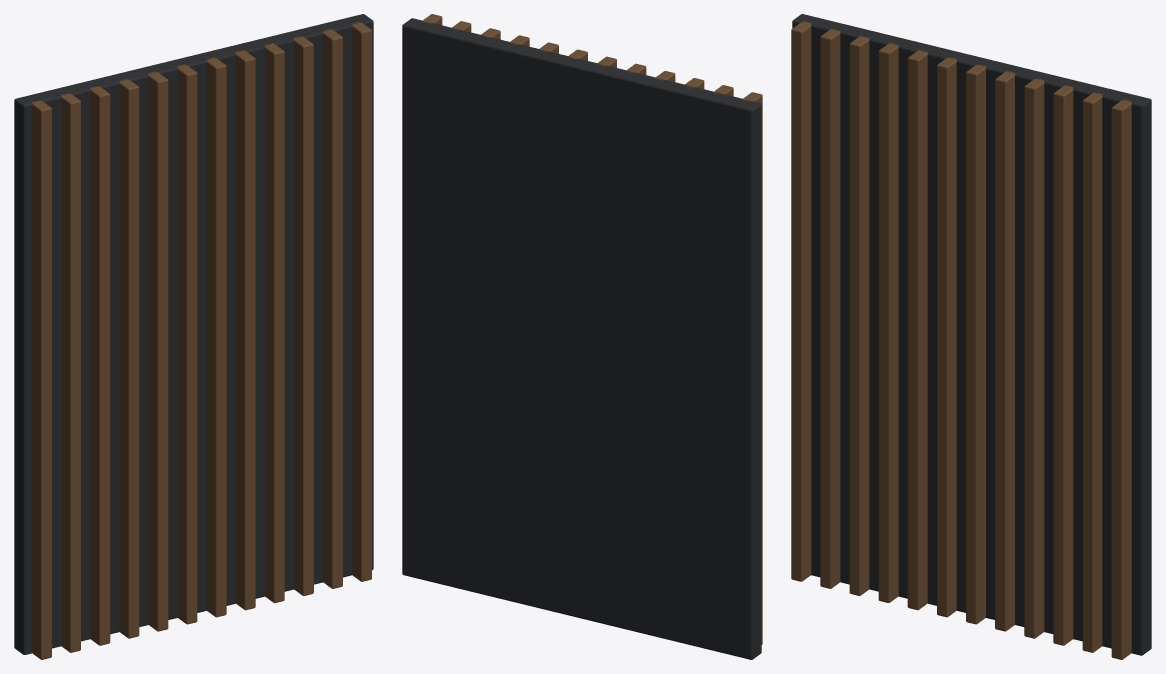
File: WoodSlatPanel.fbx
The picture shows the model from 3 angles, left to right: view 1: azimuth 30°, elevation 25°; view 2: azimuth 150°, elevation 25°; view 3: azimuth 330°, elevation 25°; orthographic projection.
Parts seen in each view (by area): view 1: Backing, Slat_07, Slat_04, Slat_05, Slat_06, Slat_03, Slat_02, Slat_08, Slat_09, Slat_11, Slat_01, Slat_10 (+1 smaller); view 2: Backing, Slat_00; view 3: Backing, Slat_00, Slat_09, Slat_03, Slat_11, Slat_04, Slat_08, Slat_10, Slat_02, Slat_01, Slat_07, Slat_05 (+1 smaller).
Boxes of the visible parts, x1,y1,x2,y2 form: Backing: (14,14,373,654); Slat_07: (235,50,255,610); Slat_04: (148,71,168,631); Slat_05: (177,64,197,624); Slat_06: (206,57,226,617); Slat_03: (119,78,139,638); Slat_02: (90,86,110,645); Slat_08: (264,43,284,603); Slat_09: (293,36,313,595); Slat_11: (351,22,371,581); Slat_01: (61,93,80,652); Slat_10: (323,29,342,588); Backing: (402,18,761,659); Slat_00: (743,92,762,644); Backing: (792,14,1151,655); Slat_00: (791,21,811,581); Slat_09: (1053,85,1073,645); Slat_03: (878,42,898,602); Slat_11: (1111,99,1131,659); Slat_04: (907,50,927,610); Slat_08: (1024,78,1044,638); Slat_10: (1082,92,1102,652); Slat_02: (849,35,869,595); Slat_01: (820,29,840,588); Slat_07: (995,71,1015,631); Slat_05: (937,57,956,617).
Size of the model in its own units: 200 by 300 by 19.
